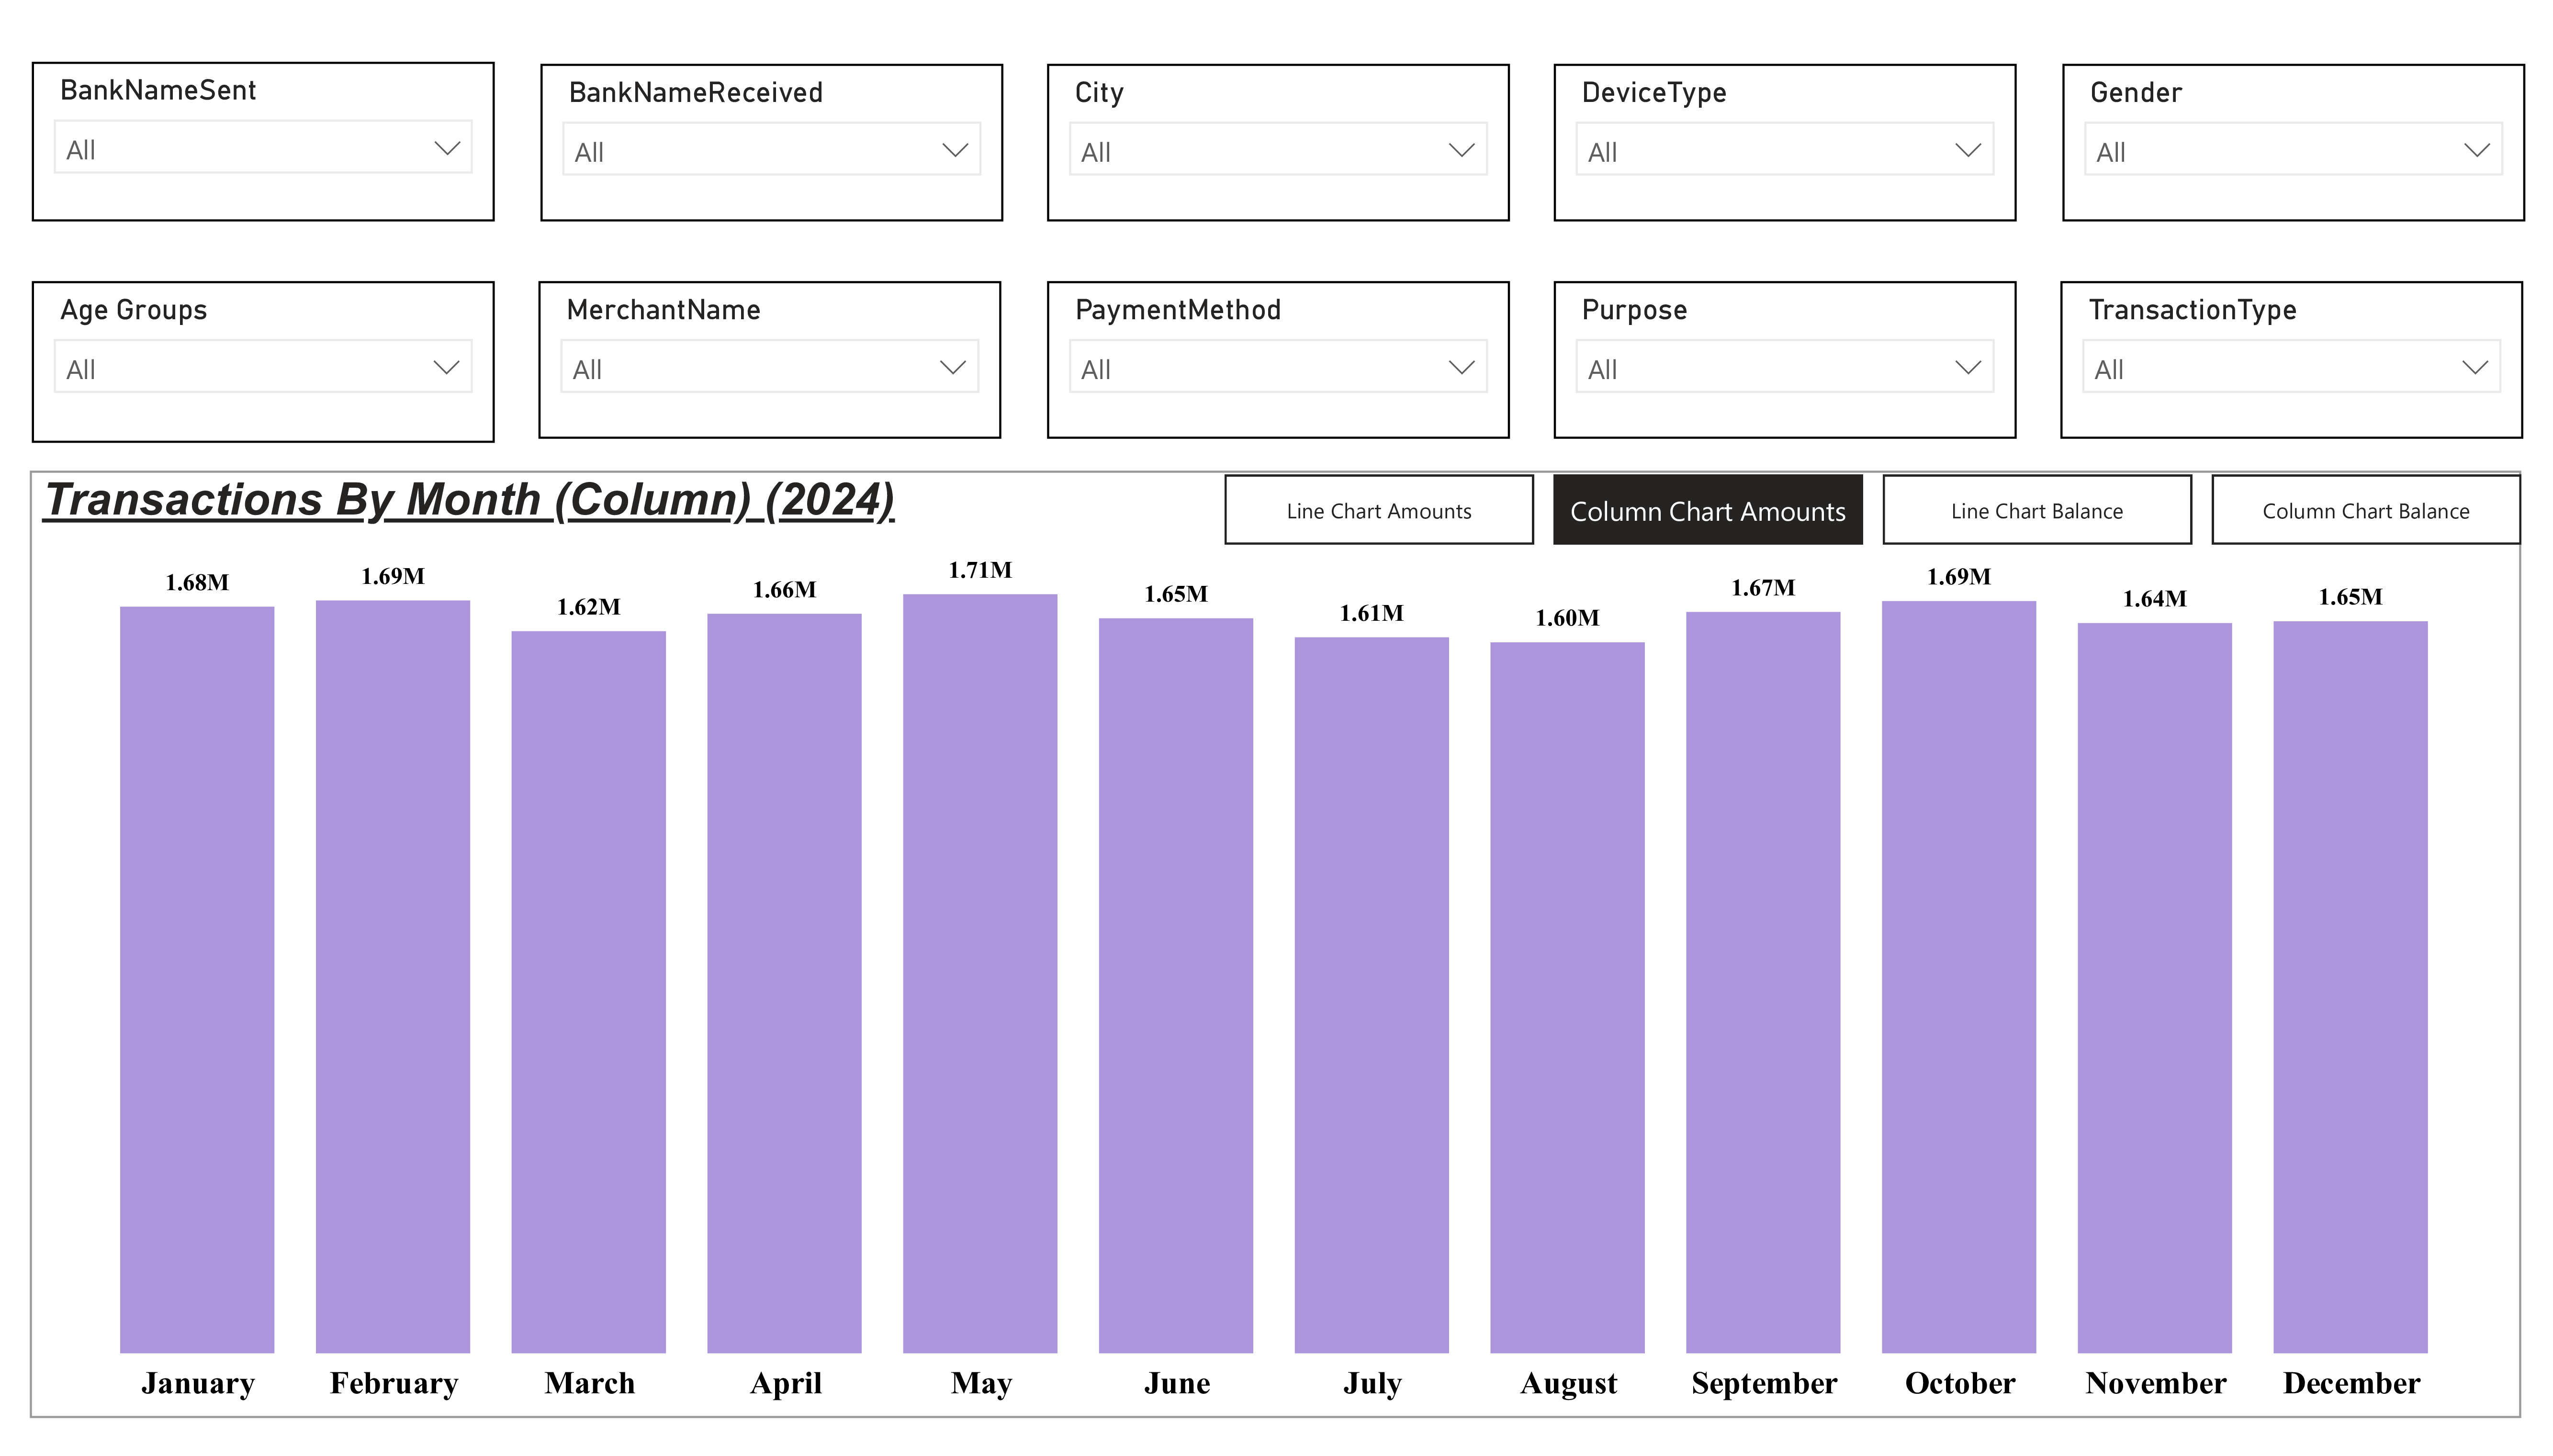

Layout of this report page (visuals, bound fields, positions):
{"tool":"powerbi","page":{"name":"Page 1","canvas":[1280,720],"ordinal":0},"visuals":[{"type":"slicer","fields":{"Values":["UPI Transactions.BankNameSent"]},"box":[15.7,26.3,232,80],"z":0},{"type":"slicer","fields":{"Values":["UPI Transactions.BankNameReceived"]},"box":[270.5,26.6,231.5,79.3],"z":1000},{"type":"slicer","fields":{"Values":["UPI Transactions.Gender"]},"box":[1033.6,26.6,231.5,79.3],"z":2000},{"type":"slicer","fields":{"Values":["UPI Transactions.DeviceType"]},"box":[779.2,26.6,231.5,79.3],"z":3000},{"type":"slicer","fields":{"Values":["UPI Transactions.City"]},"box":[524.9,26.6,231.5,79.3],"z":4000},{"type":"slicer","fields":{"Values":["UPI Transactions.Age Groups"]},"box":[16.2,136,231.5,81],"z":5000},{"type":"slicer","fields":{"Values":["UPI Transactions.MerchantName"]},"box":[270.4,136,231.5,79.3],"z":6000},{"type":"slicer","fields":{"Values":["UPI Transactions.TransactionType"]},"box":[1033.1,136,231.5,79.3],"z":7000},{"type":"slicer","fields":{"Values":["UPI Transactions.Purpose"]},"box":[778.8,136,231.5,79.3],"z":8000},{"type":"slicer","fields":{"Values":["UPI Transactions.PaymentMethod"]},"box":[524.6,136,231.5,79.3],"z":9000},{"type":"columnChart","title":"Transactions By Month (Column) (2024)","fields":{"Category":["UPI Transactions.TransactionDate.Variation.Date Hierarchy.Month"],"Y":["Sum(UPI Transactions.Amount)"]},"box":[14.8,230.9,1248.7,475.1],"z":11000},{"type":"bookmarkNavigator","box":[613.7,233.2,650.9,35.6],"z":14000}]}

Visuals, with their boxes in screenshot pixels (x1, y1, x2, y2), scaled from the page's 1280x720 canvas onto the 2553x1456 screenshot:
slicer - UPI Transactions.BankNameSent: 31:53:494:215
slicer - UPI Transactions.BankNameReceived: 540:54:1001:214
slicer - UPI Transactions.Gender: 2061:54:2523:214
slicer - UPI Transactions.DeviceType: 1554:54:2016:214
slicer - UPI Transactions.City: 1047:54:1508:214
slicer - UPI Transactions.Age Groups: 32:275:494:439
slicer - UPI Transactions.MerchantName: 540:275:1001:436
slicer - UPI Transactions.TransactionType: 2060:275:2522:436
slicer - UPI Transactions.Purpose: 1553:275:2015:436
slicer - UPI Transactions.PaymentMethod: 1046:275:1508:436
"Transactions By Month (Column) (2024)" columnChart: 30:467:2520:1428
bookmarkNavigator: 1224:471:2522:544
